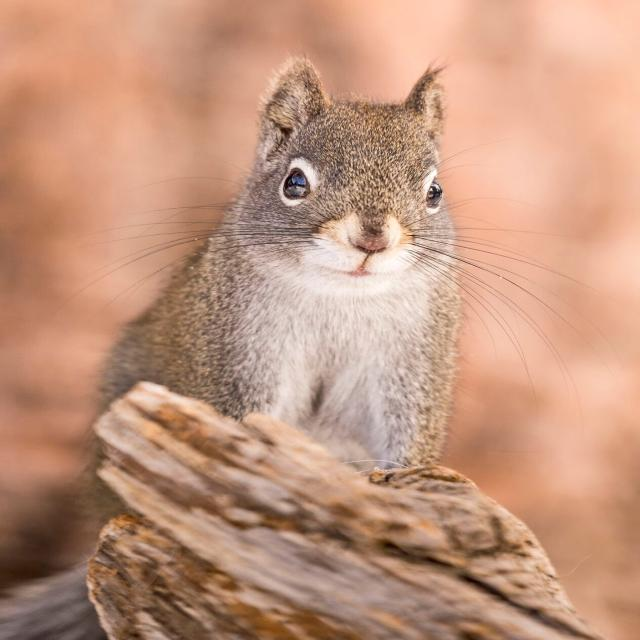Squirrel: (89, 44, 478, 480)
